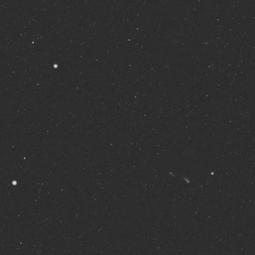proba_3_ocs: (156, 137, 238, 199)
